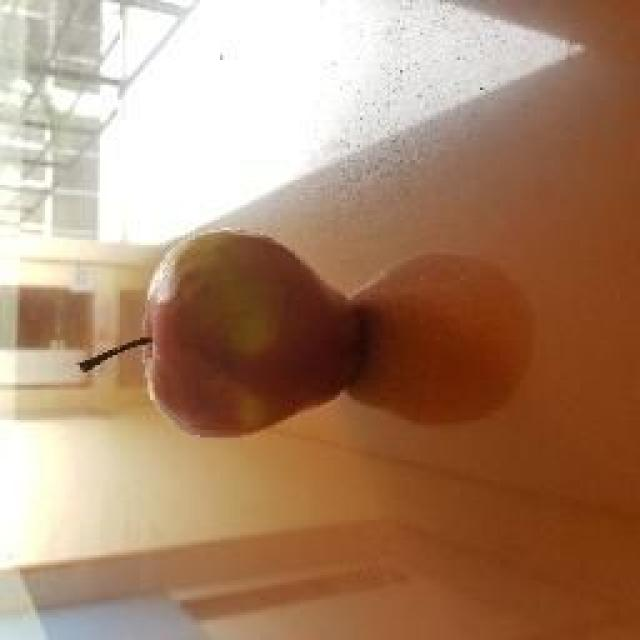Good_Apple: (151, 231, 360, 436)
